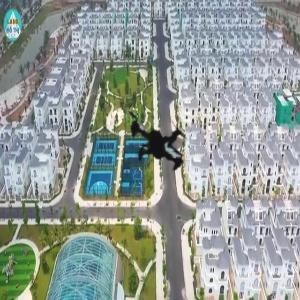drone: (74, 29, 263, 218)
